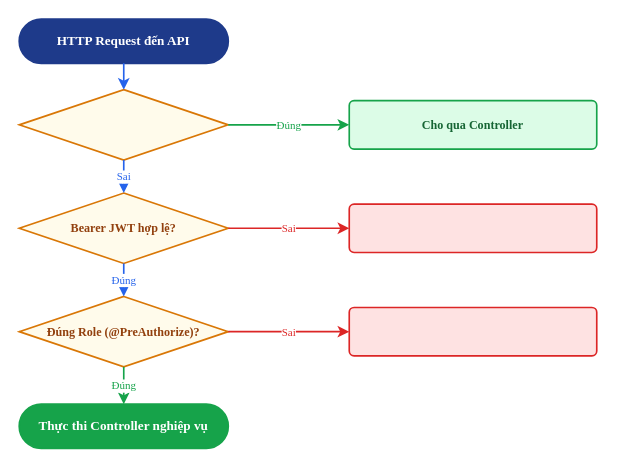
Some shapes in this 617 by 469 pixel diagram are drawn without their labels. Here are the shapes that lost their labels. From the top down, the centre of each, then its label:
At (x=123, y=124): "Endpoint permitAll?".
At (x=472, y=228): "401 Unauthorized (ApiError)".
At (x=472, y=331): "403 Forbidden (ApiError)".
